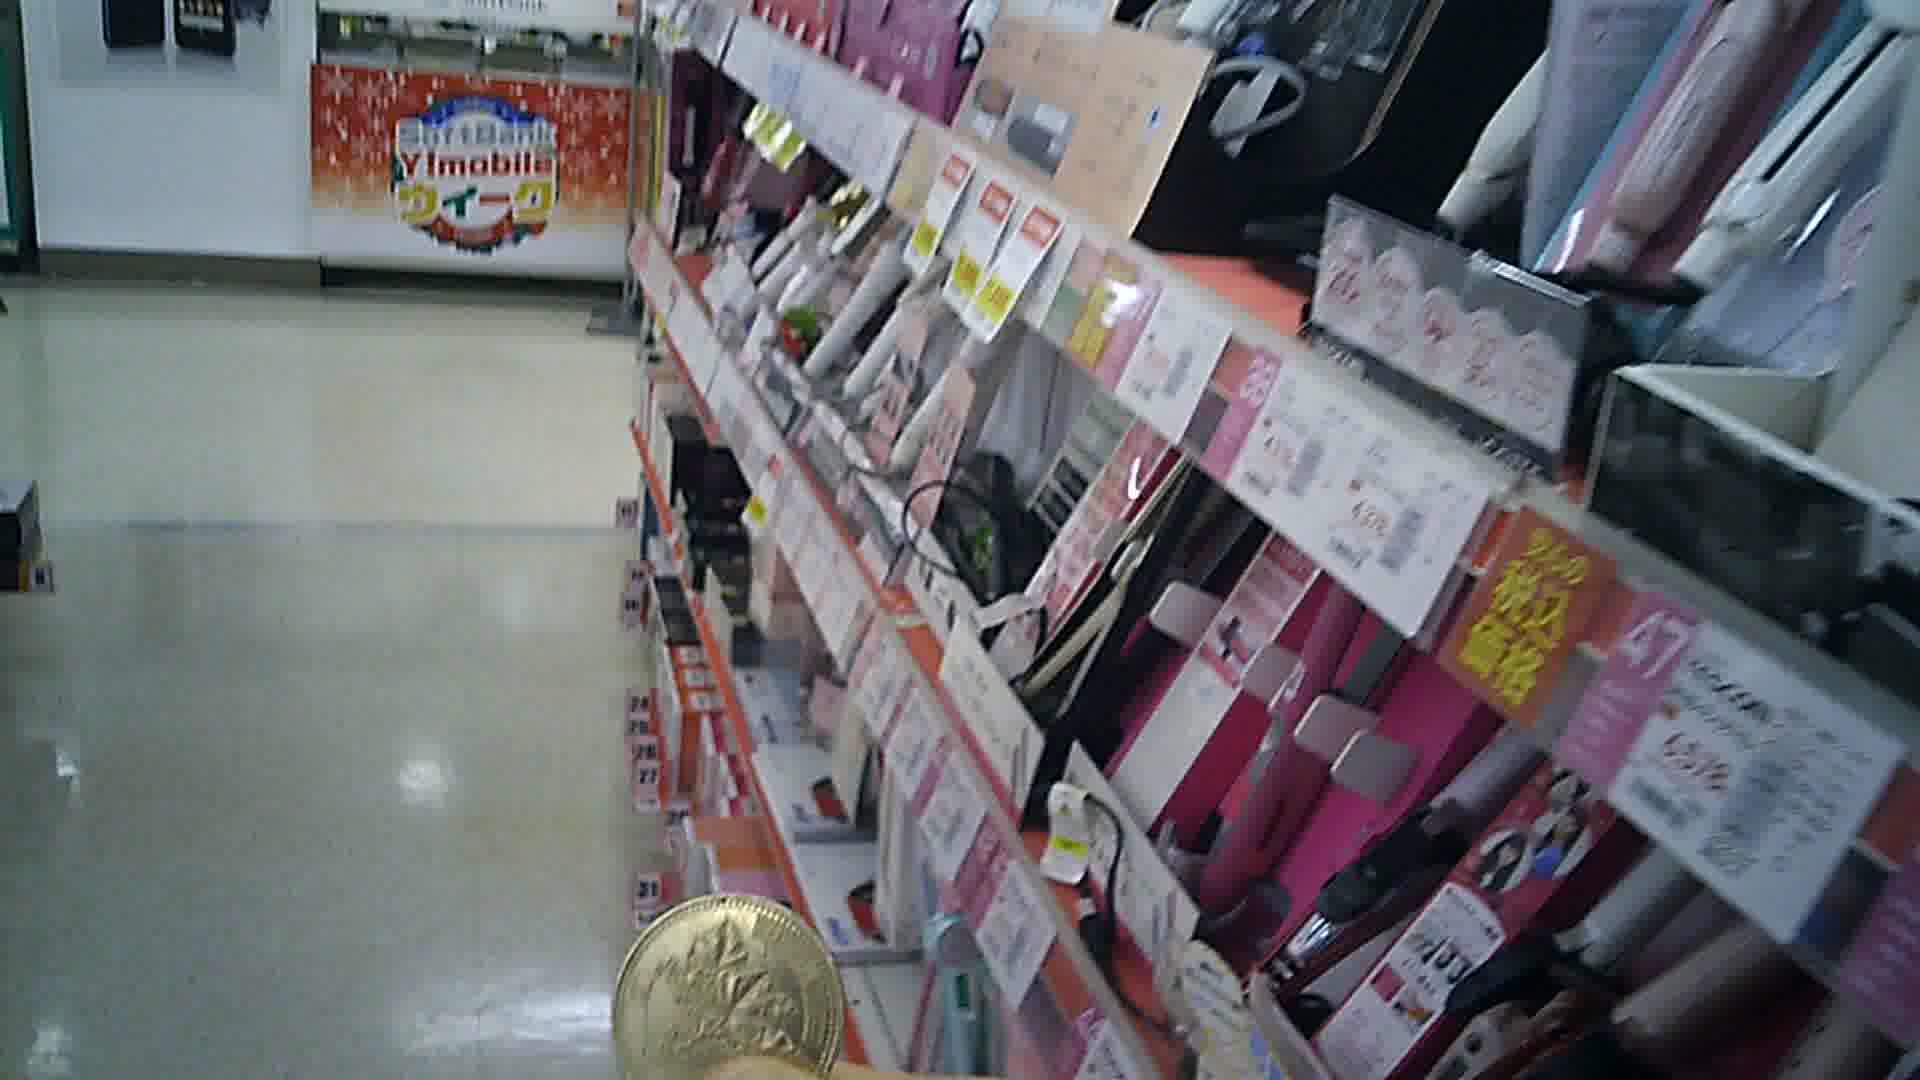500 Yen: (609, 887, 837, 1073)
